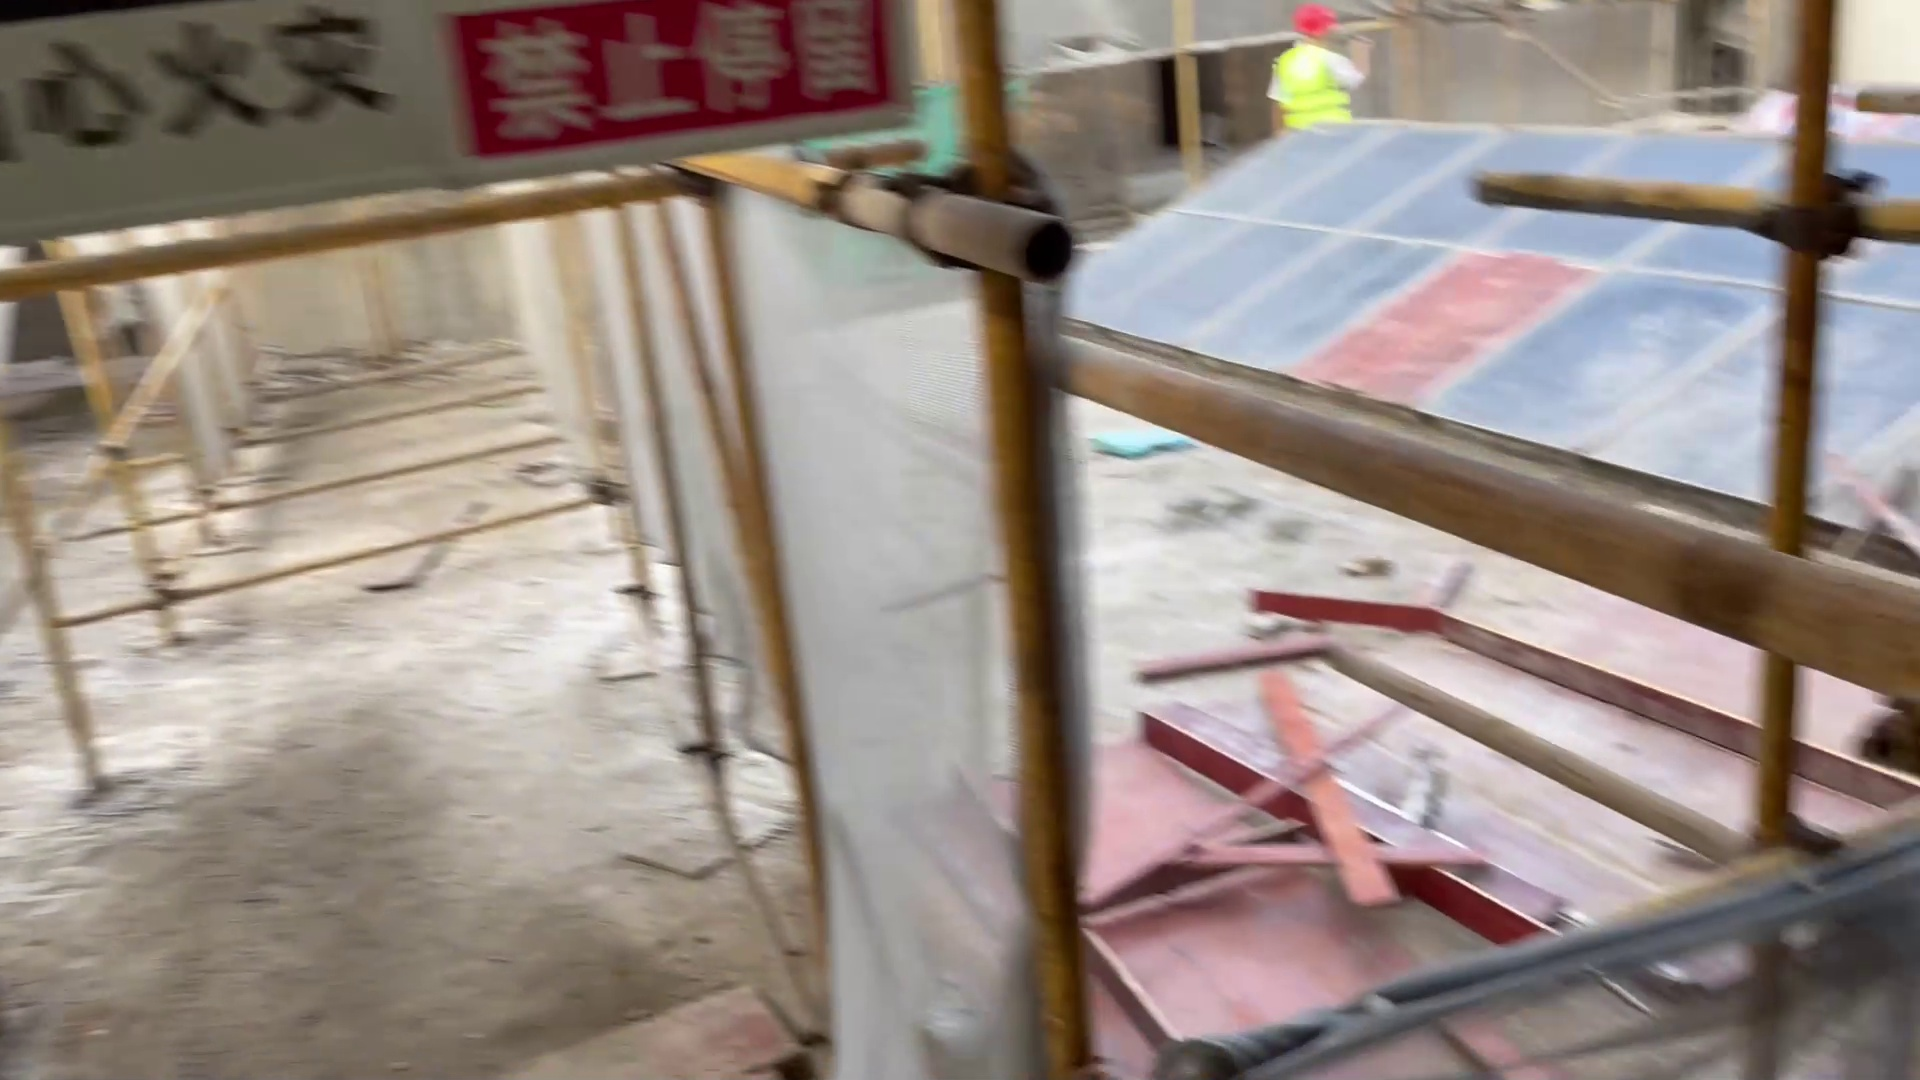person: (1259, 7, 1402, 135)
slogan: (19, 20, 903, 161)
vest: (1269, 44, 1353, 124)
